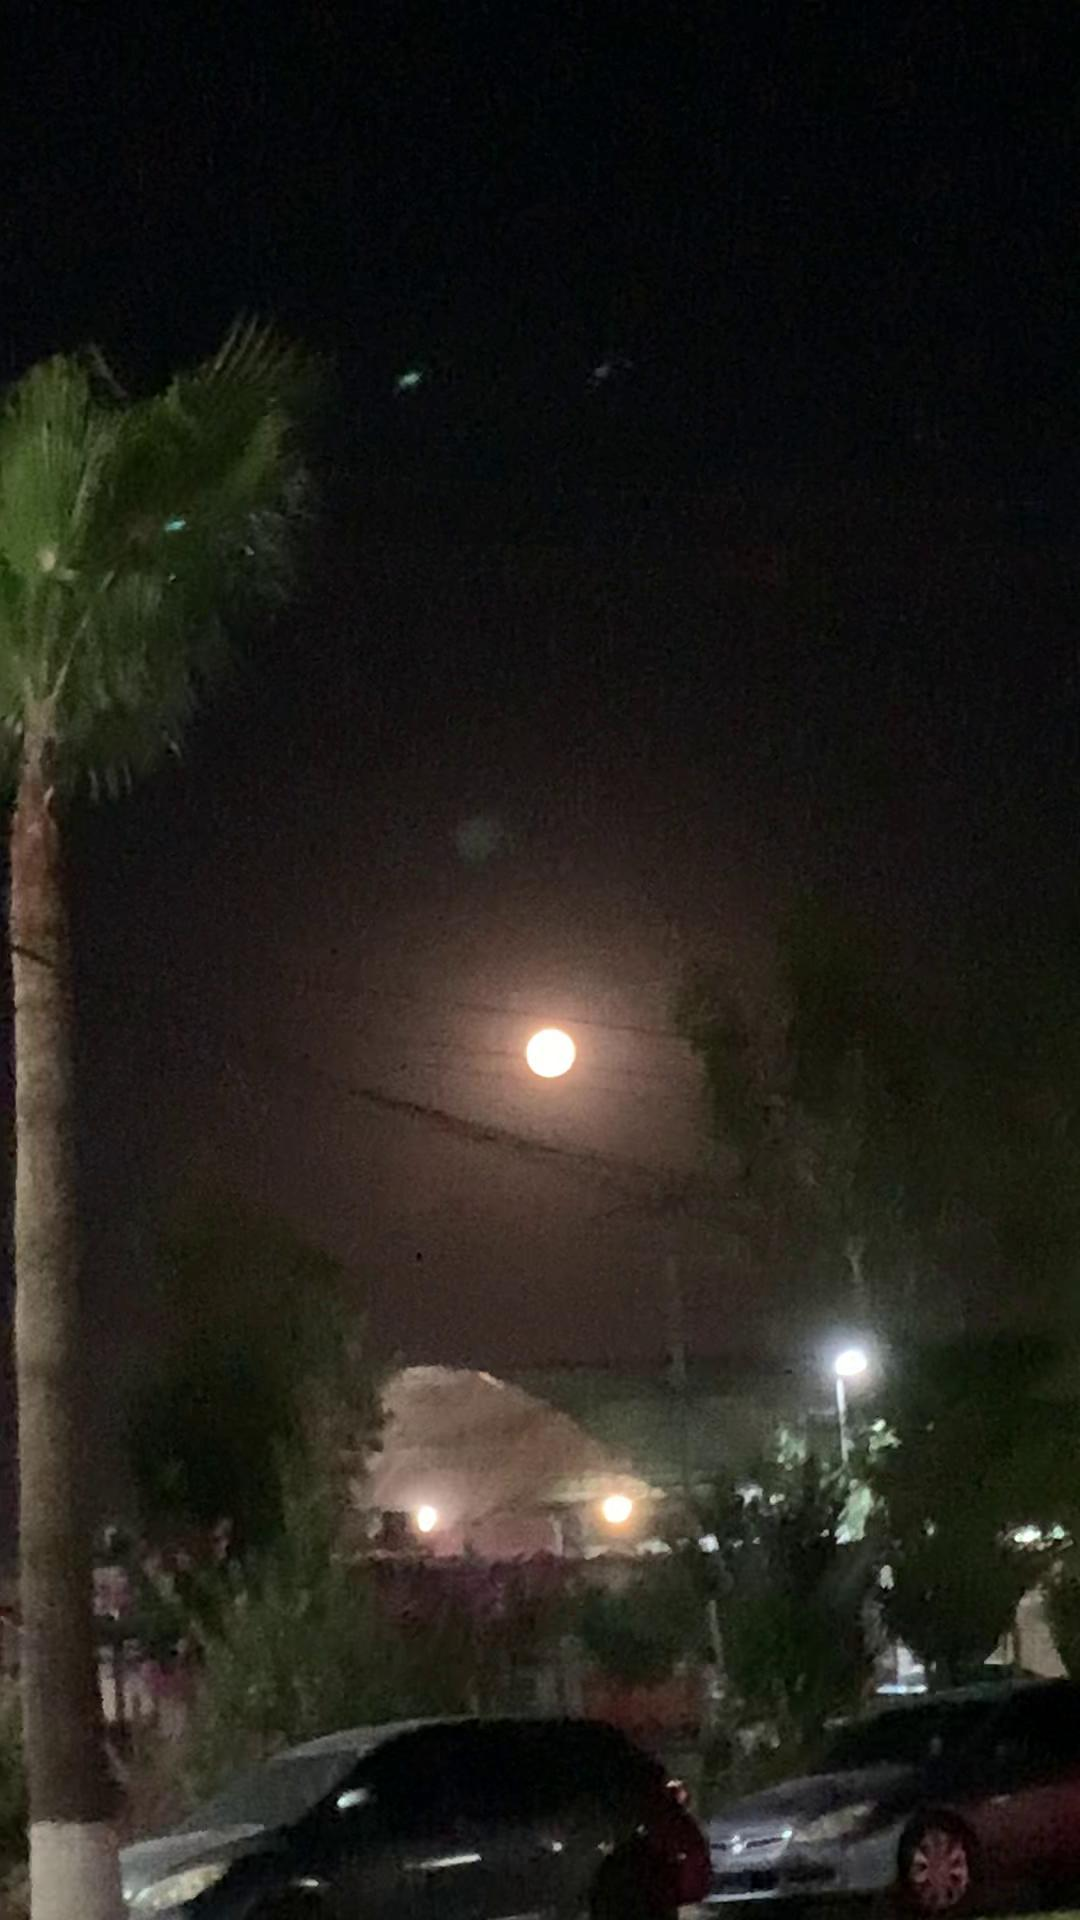moon: (505, 1023, 597, 1095)
